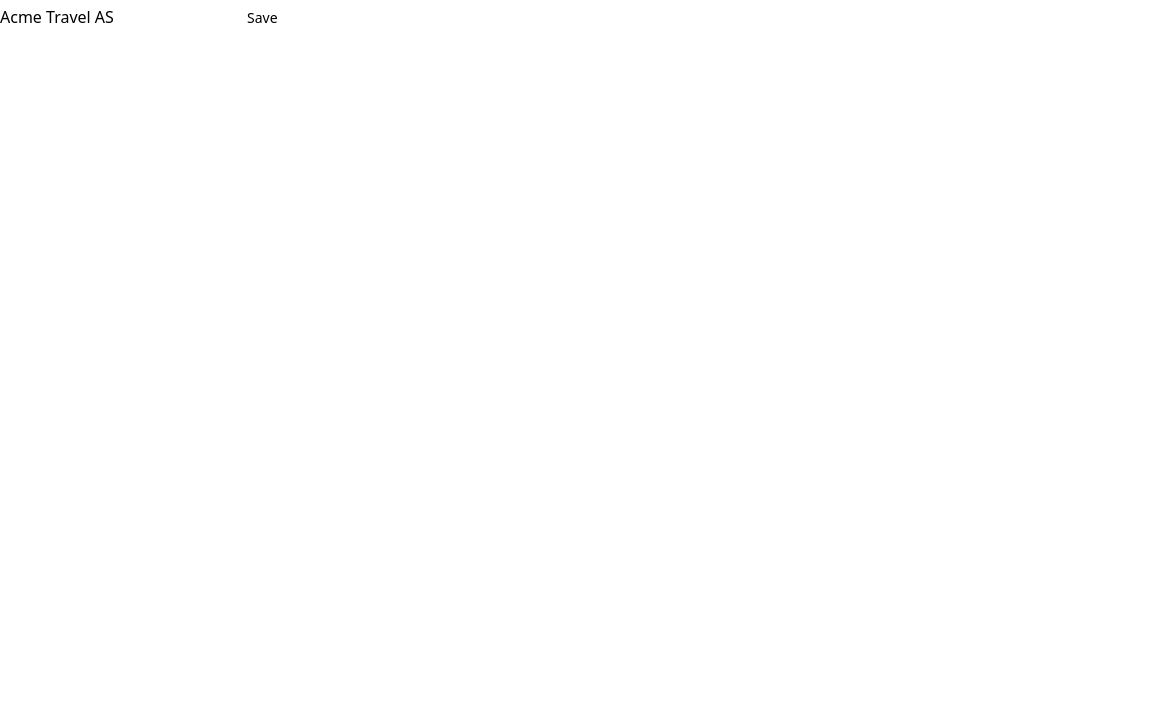
Test: StepUpDialog › closes without re-submitting when cancelled, and opens again on the next step-up request
Submit the form "Save", box [0,0,294,36]
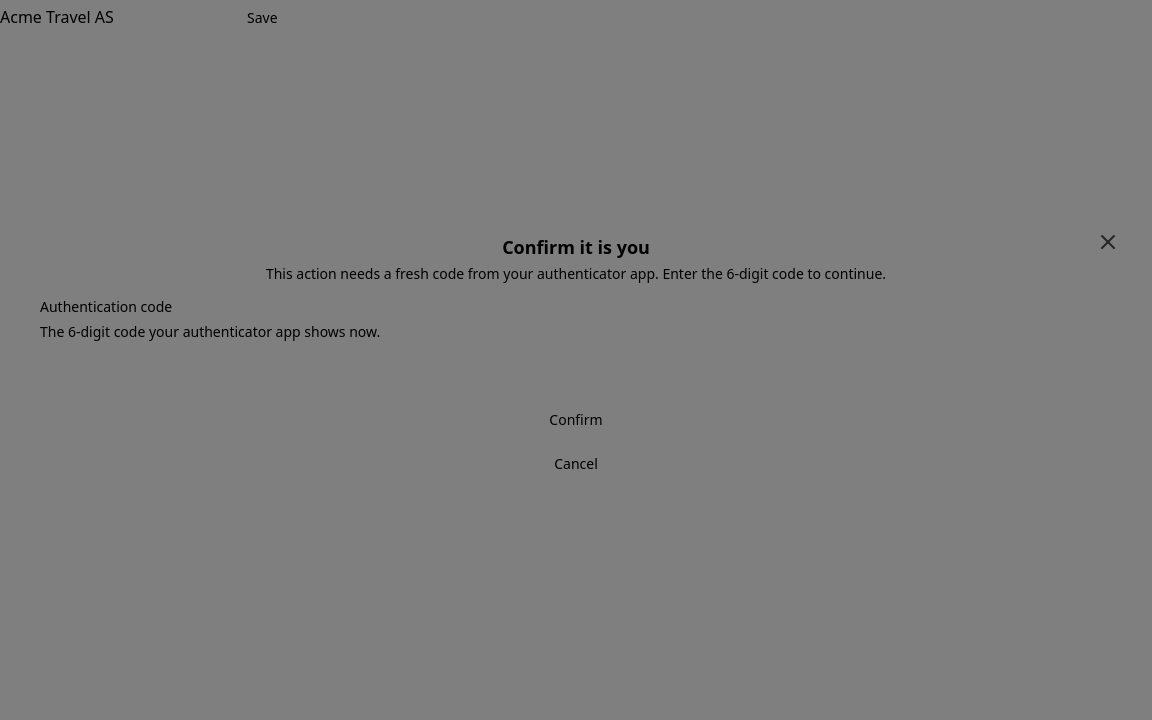
Click the button "Cancel" at (576, 464), box [40,446,1112,482]
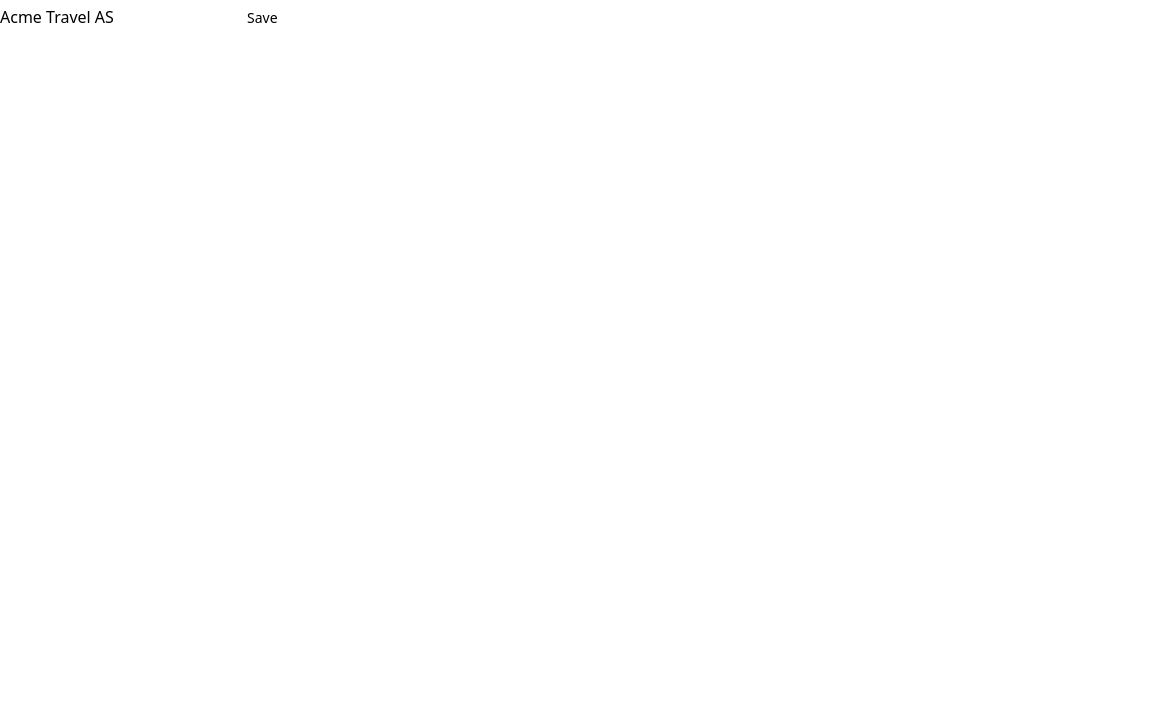
Result: the dialog is gone
Submit the form "Save", box [0,0,294,36]
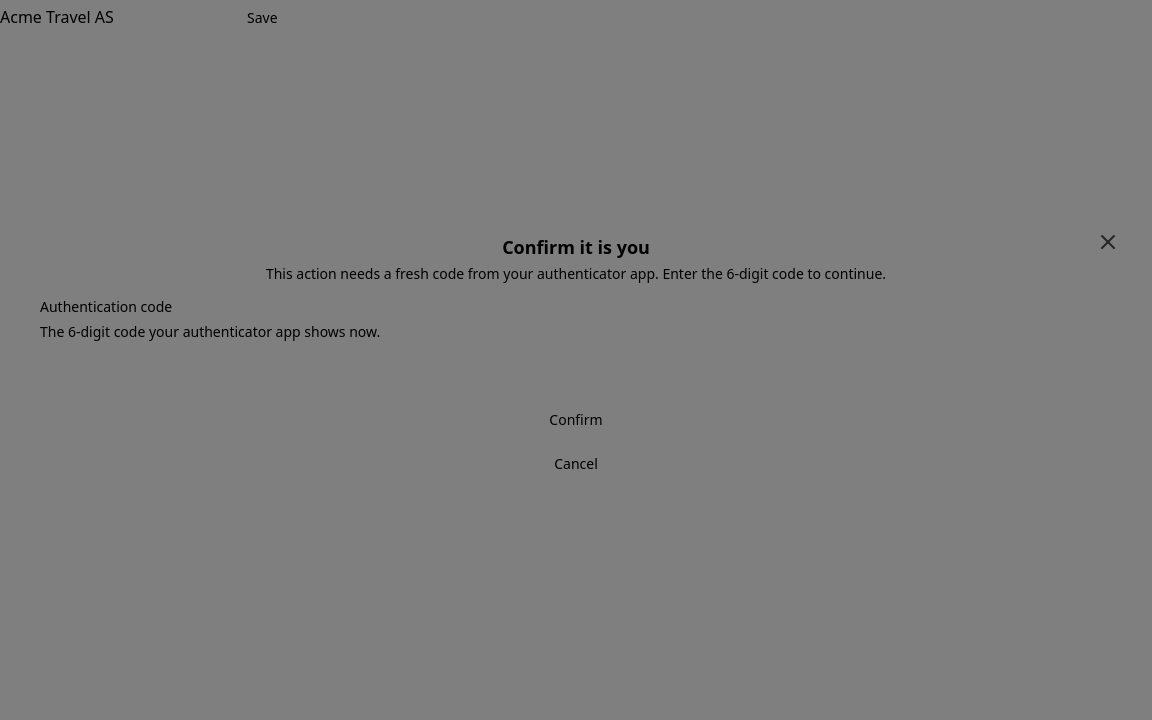
Result: the dialog is shown at [16,214,1136,506]
